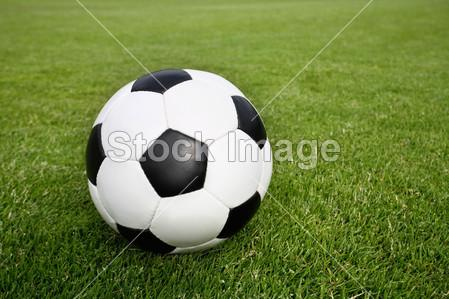football: (106, 67, 270, 252)
